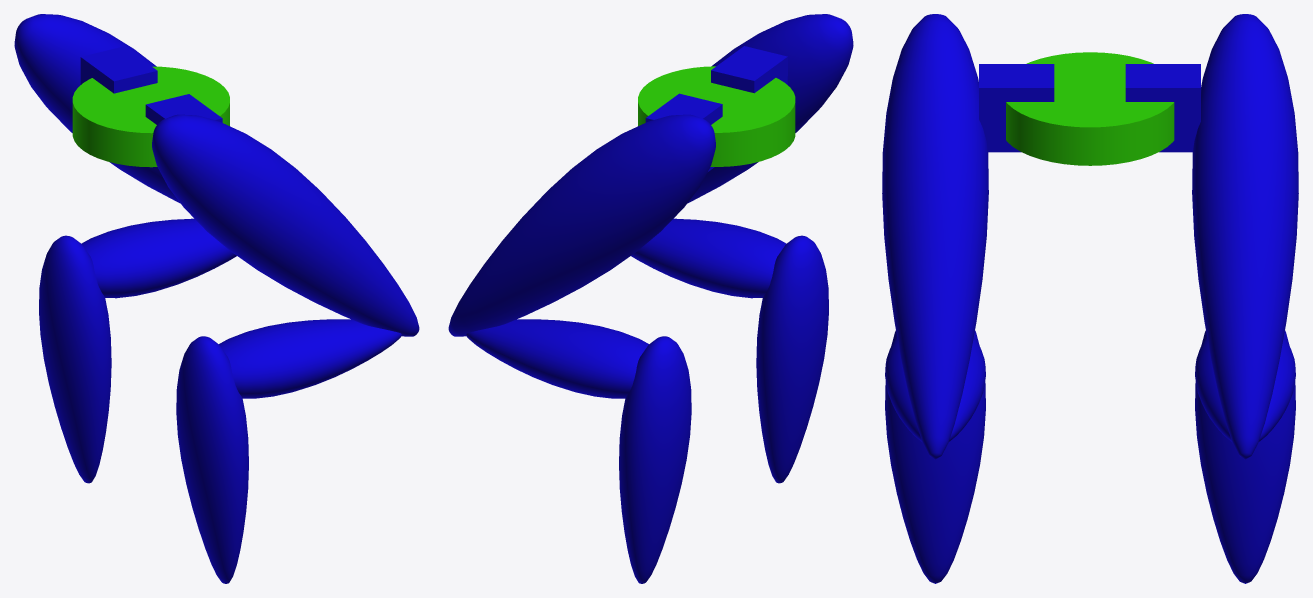
File: SM_PlayerLegs.FBX
3 views of the same model, side by side, from view 1: azimuth 30°, elevation 25°; view 2: azimuth 150°, elevation 25°; view 3: azimuth 270°, elevation 25° (orthographic). The views are drawn at different scales.
Parts seen in each view (by area): view 1: Cylinder009; view 2: Cylinder009; view 3: Cylinder009.
Boxes of the visible parts, box(x1,y1,x2,y2) form: Cylinder009: box(14, 14, 419, 583); Cylinder009: box(448, 14, 853, 583); Cylinder009: box(882, 14, 1298, 583).
Bounding box in the file's own units: 58.3 × 99.8 × 69.87.
